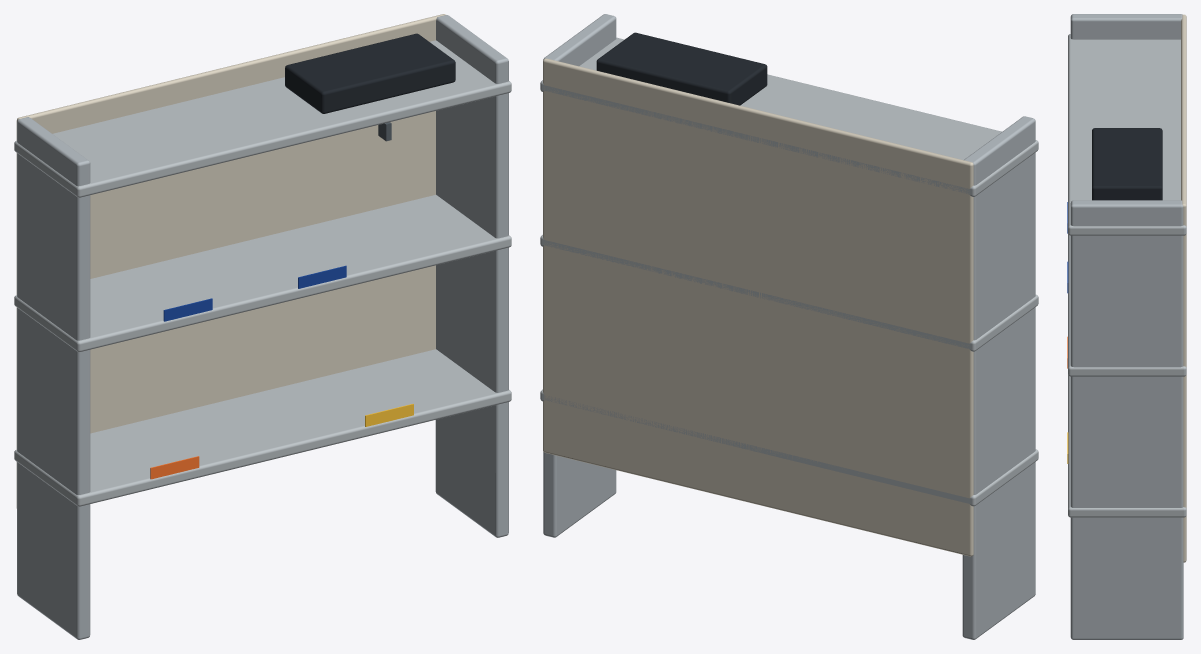
The model's file is parts-shelf.glb.
3 renders of one model, left to right at view 1: azimuth 30°, elevation 25°; view 2: azimuth 150°, elevation 25°; view 3: azimuth 270°, elevation 25°, orthographic. The views are drawn at different scales.
Parts seen in each view (by area): view 1: parts-shelf-panel-grey, parts-shelf-hull-cream, parts-shelf-aluminium, parts-shelf-dark-polymer, parts-shelf-nasa-blue; view 2: parts-shelf-hull-cream, parts-shelf-aluminium, parts-shelf-panel-grey, parts-shelf-dark-polymer; view 3: parts-shelf-aluminium, parts-shelf-panel-grey, parts-shelf-dark-polymer, parts-shelf-hull-cream.
Boxes of the visible parts, x1=… form: parts-shelf-panel-grey: x1=14, y1=40, x2=511, y2=506; parts-shelf-hull-cream: x1=16, y1=14, x2=445, y2=508; parts-shelf-aluminium: x1=17, y1=15, x2=508, y2=639; parts-shelf-dark-polymer: x1=285, y1=33, x2=455, y2=113; parts-shelf-nasa-blue: x1=163, y1=265, x2=346, y2=321; parts-shelf-hull-cream: x1=543, y1=58, x2=973, y2=556; parts-shelf-aluminium: x1=543, y1=14, x2=1035, y2=639; parts-shelf-panel-grey: x1=540, y1=37, x2=1038, y2=506; parts-shelf-dark-polymer: x1=596, y1=32, x2=767, y2=105; parts-shelf-aluminium: x1=1070, y1=14, x2=1183, y2=639; parts-shelf-panel-grey: x1=1068, y1=34, x2=1186, y2=517; parts-shelf-dark-polymer: x1=1092, y1=128, x2=1162, y2=200; parts-shelf-hull-cream: x1=1181, y1=14, x2=1186, y2=562.
Bounding box in the file's own units: 1.62 × 1.7 × 0.422.
